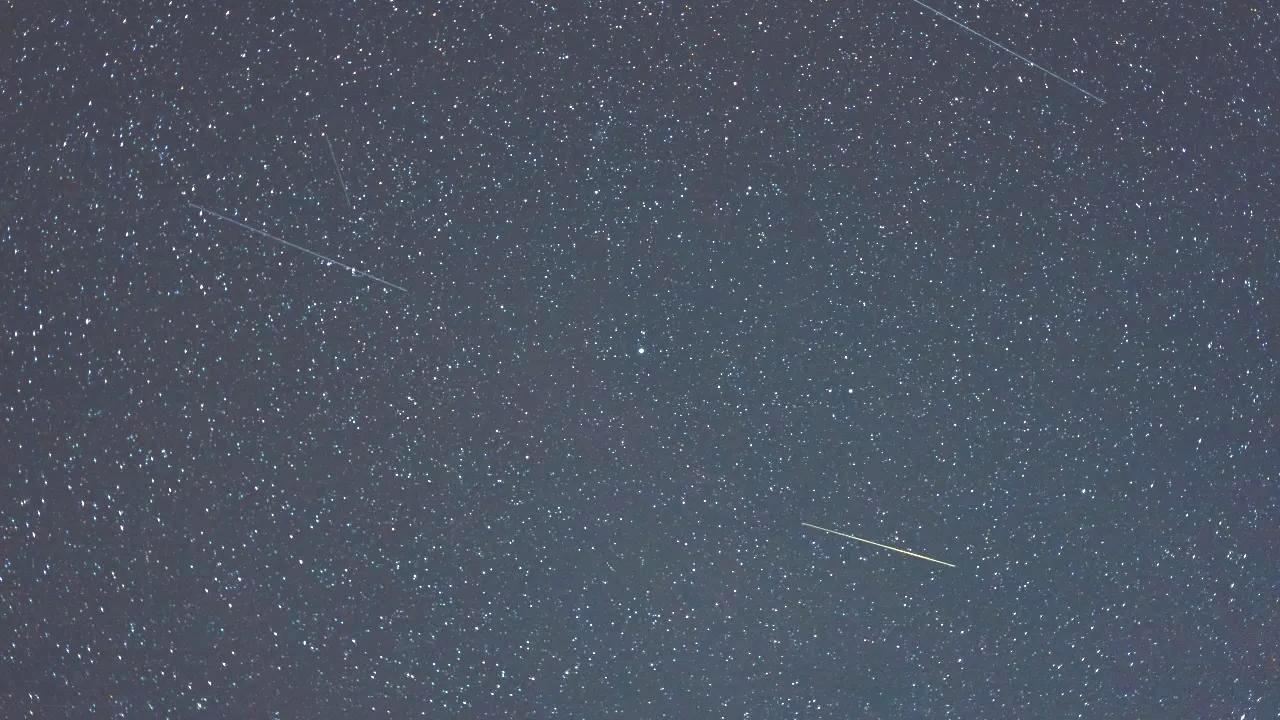meteorite: (872, 0, 1140, 139), (178, 178, 402, 320), (784, 501, 990, 598), (301, 116, 377, 264)
